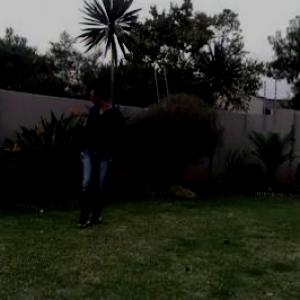follow: (70, 71, 125, 244)
